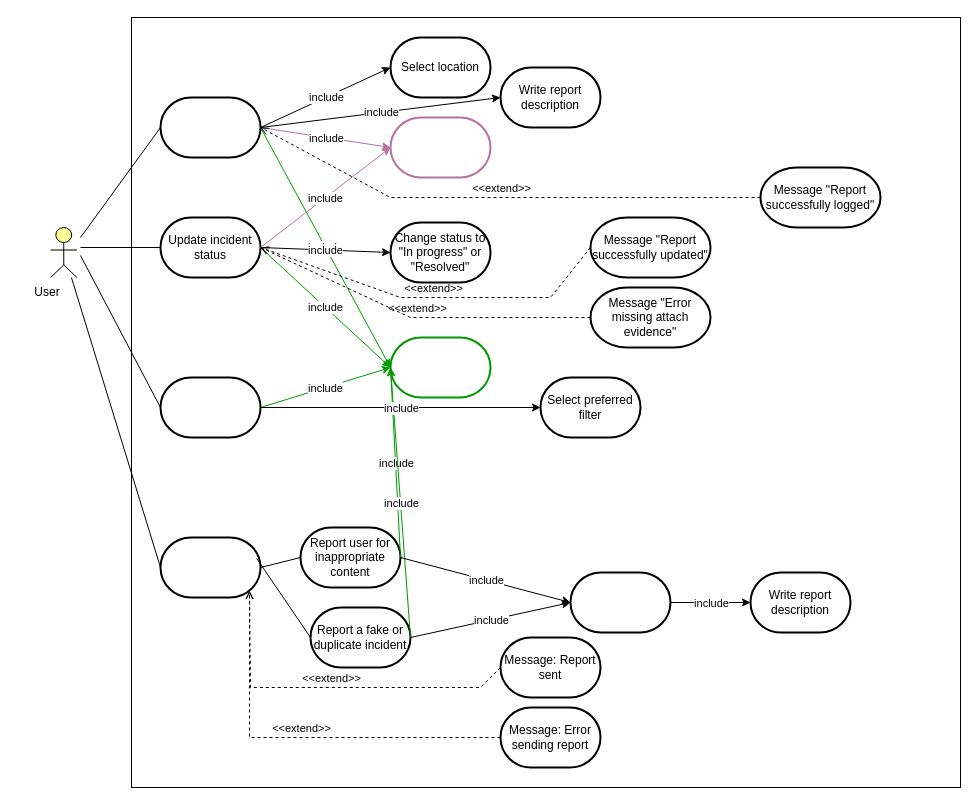
Some shapes in this 978 by 805 pixel diagram are drawn without their labels. The shapes that lost their labels are listed below. From the top down, each one's centre as x and y in pixels, then its label:
the point at 210,127: Report accident
the point at 440,147: Attach photos
the point at 440,367: Display interactive map
the point at 210,407: Filter incidents/ accidents
the point at 210,567: Report inconsistency
the point at 620,602: Select an report accident
